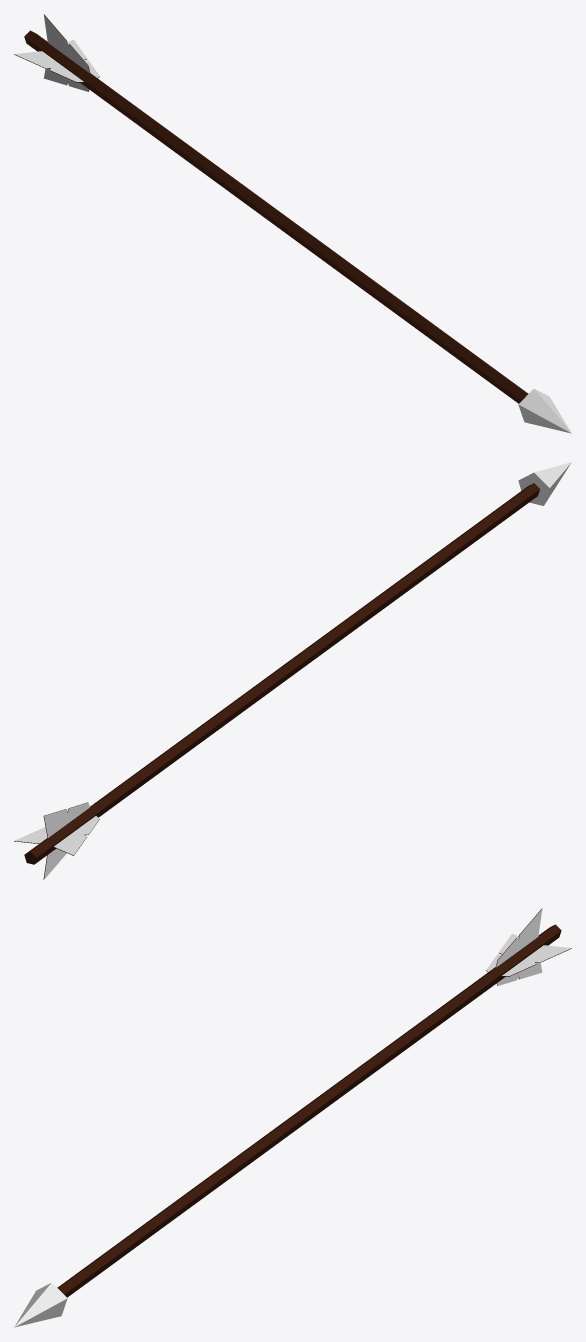
The model's file is Arrow.fbx.
3 renders of one model, top to bottom at view 1: azimuth 30°, elevation 25°; view 2: azimuth 150°, elevation 25°; view 3: azimuth 330°, elevation 25°, orthographic.
Parts seen in each view (by area): view 1: Cylinder.002; view 2: Cylinder.002; view 3: Cylinder.002.
Boxes of the visible parts, x1,y1,x2,y2 form: Cylinder.002: (14, 14, 571, 433); Cylinder.002: (14, 462, 571, 879); Cylinder.002: (14, 908, 571, 1327).
Size of the model in its own units: 1174 by 1202 by 18418.
